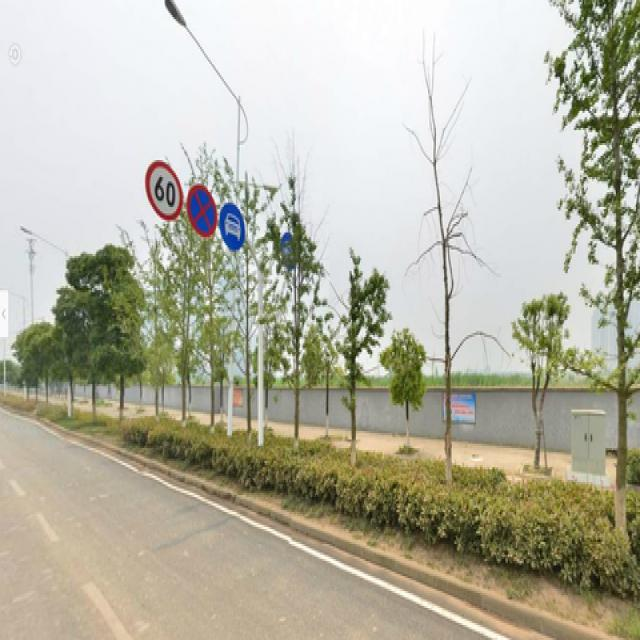cinn: (390, 318, 430, 480)
gink: (560, 11, 639, 482), (278, 186, 314, 450), (336, 247, 379, 458), (137, 228, 179, 435)
